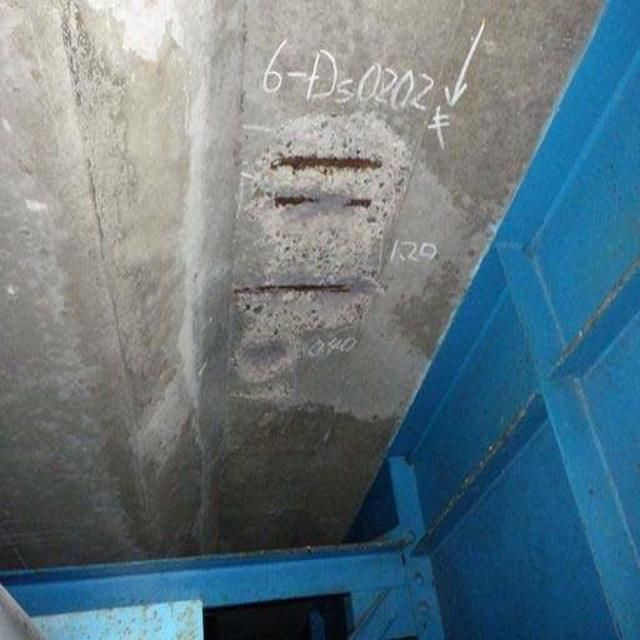spalling: (215, 80, 378, 397)
